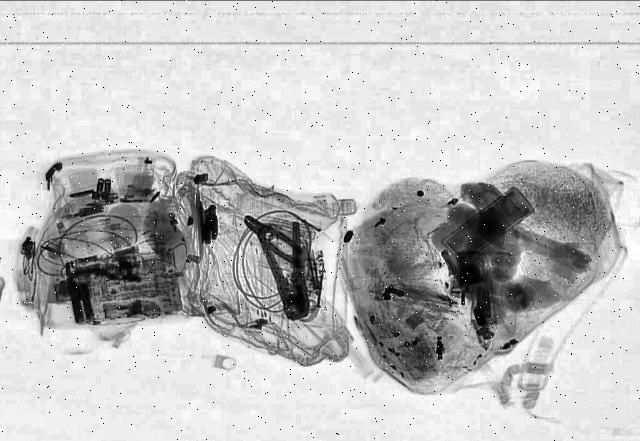Pliers: (256, 220, 322, 320), (236, 210, 314, 262)
